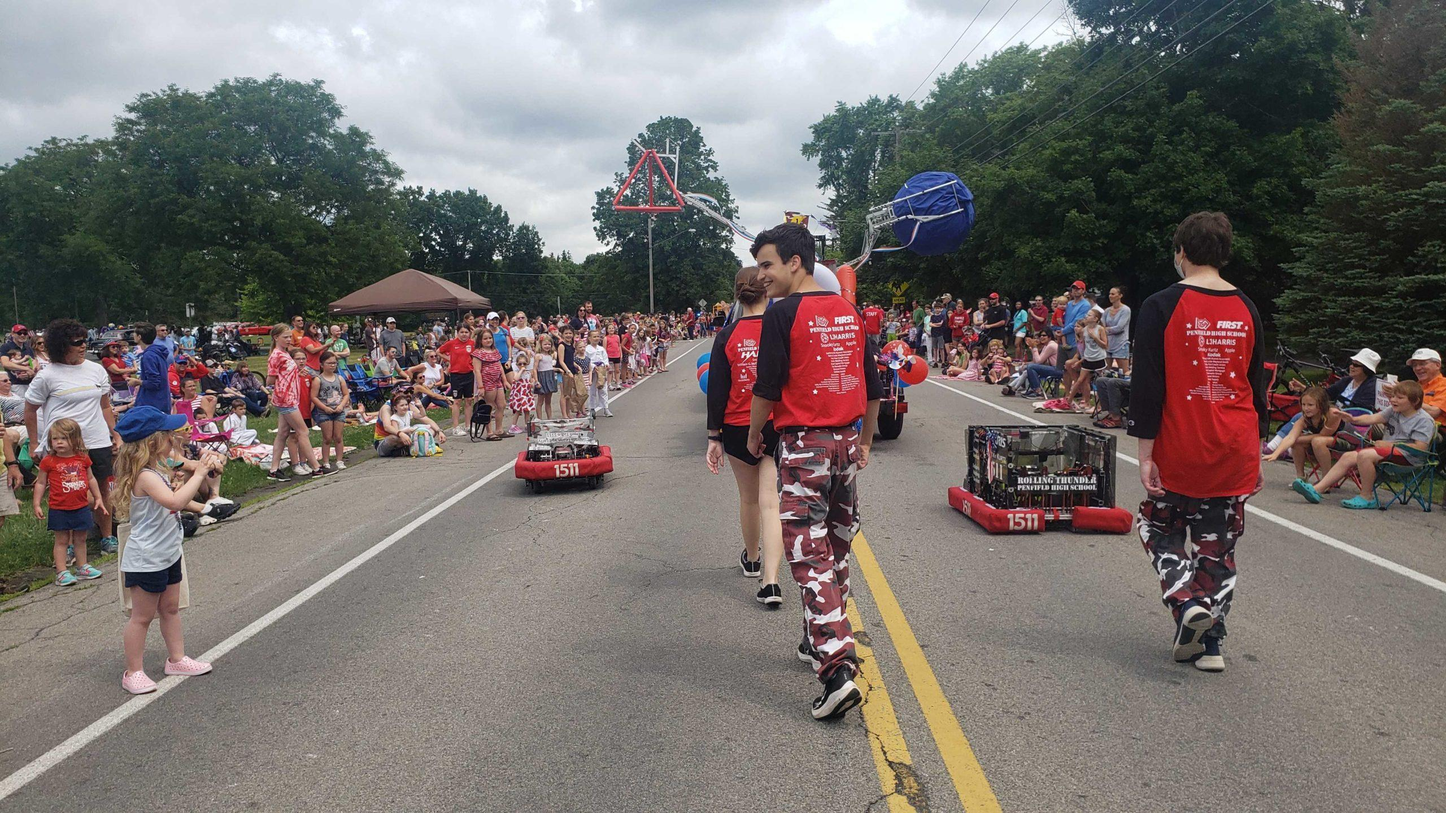robot: (938, 416, 1139, 543), (511, 408, 620, 498)
